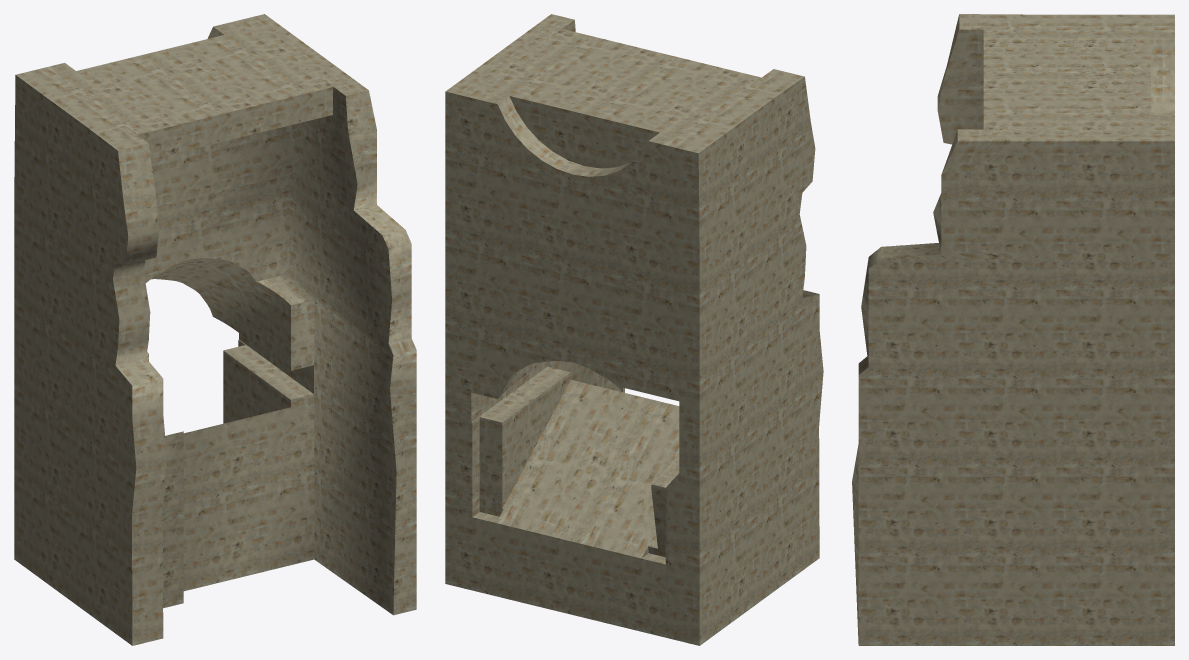
File: main_block.fbx
3 renders of one model, left to right at view 1: azimuth 30°, elevation 25°; view 2: azimuth 150°, elevation 25°; view 3: azimuth 270°, elevation 25°, orthographic. The views are drawn at different scales.
Parts seen in each view (by area): view 1: mesh_2224; view 2: mesh_2224; view 3: mesh_2224.
Part boxes in pixels (x1=…): mesh_2224: x1=14, y1=14, x2=416, y2=645; mesh_2224: x1=445, y1=14, x2=823, y2=645; mesh_2224: x1=852, y1=14, x2=1174, y2=645.
Size of the model in its own units: 786 by 1455 by 843.
Materials: 1 (1 with a texture image).
